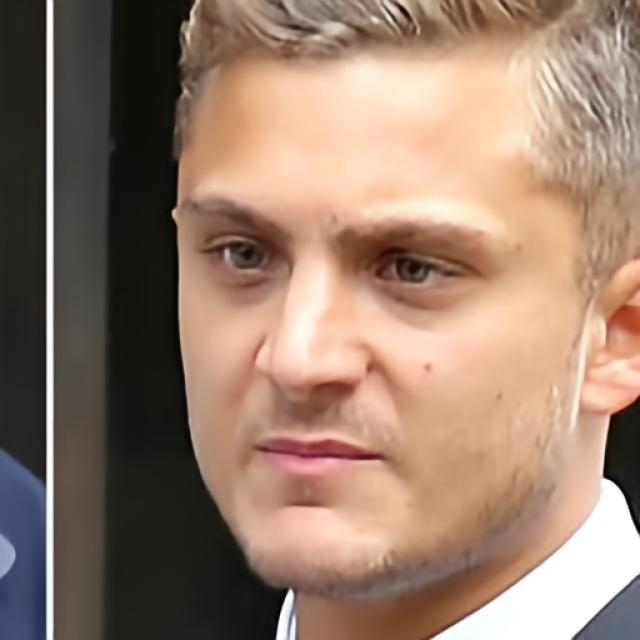anger: (179, 38, 575, 582)
